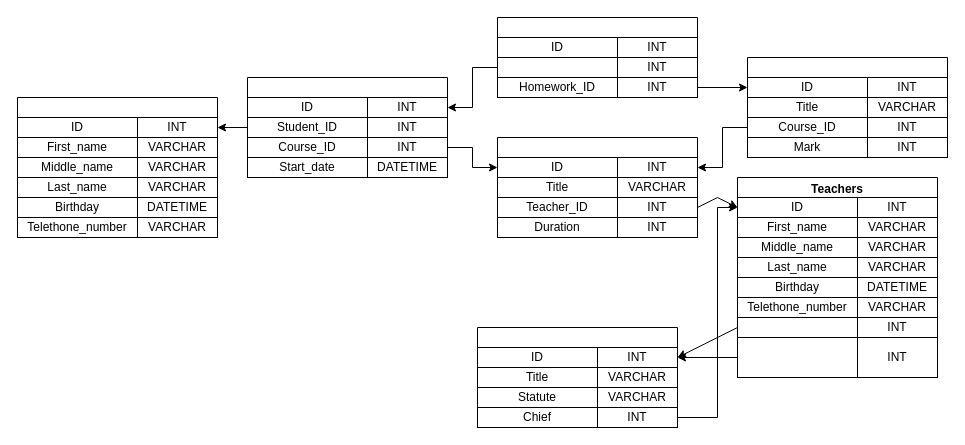
Image size: 965x445. Some labels were removed from this diagram. Each missing label, with the box of its shape:
Course: (496, 136, 698, 238)
Education_card: (246, 76, 448, 178)
Education_card_ID: (496, 56, 618, 78)
Faculty: (476, 326, 678, 428)
Faculty_ID: (736, 316, 858, 338)
Faculty_ID_headed _by_researcher: (736, 336, 858, 378)
Homework: (746, 56, 948, 158)
Main_table: (496, 16, 698, 98)
Students: (16, 96, 218, 238)
